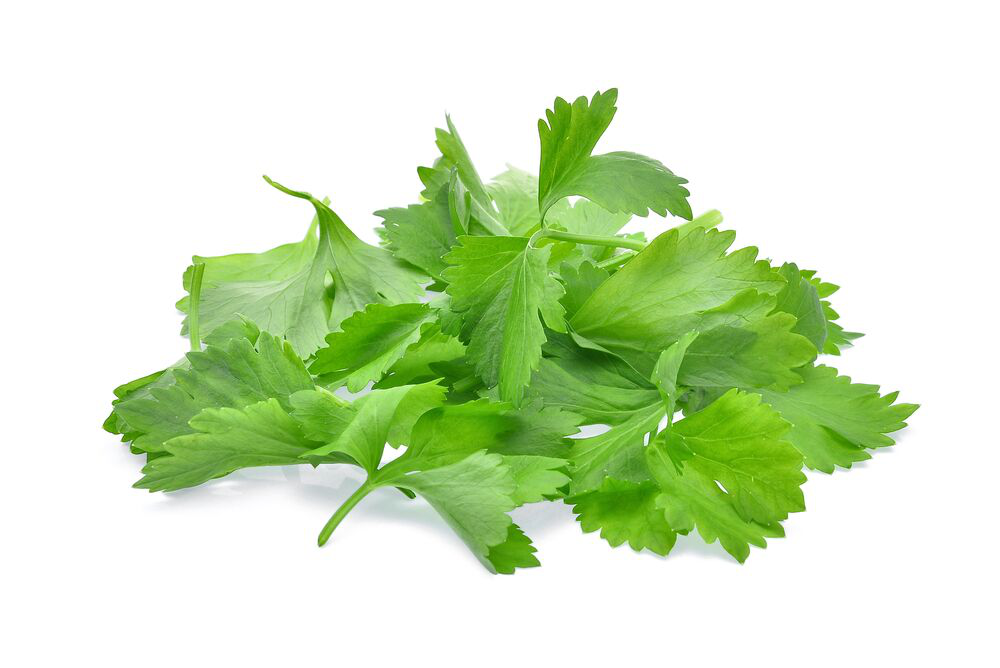Seledri: (142, 135, 929, 609)
